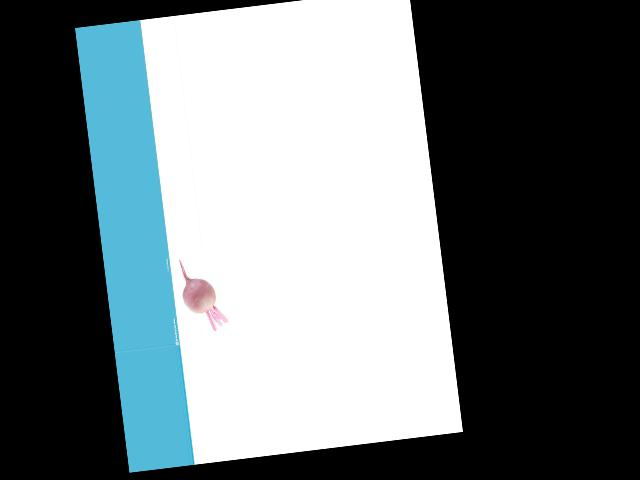beet: (178, 255, 228, 333)
